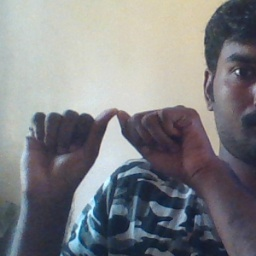A: (21, 108, 208, 195)
